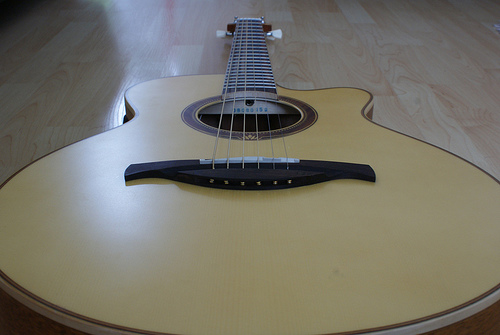guitar: (1, 13, 500, 335)
